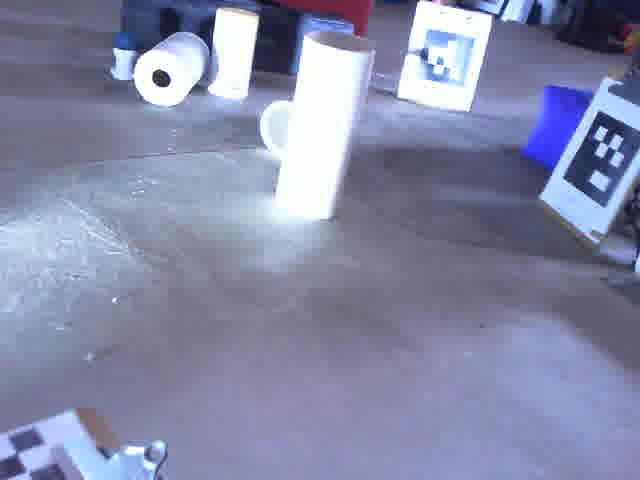coral: (273, 29, 382, 218), (135, 32, 211, 107), (262, 99, 296, 157)
